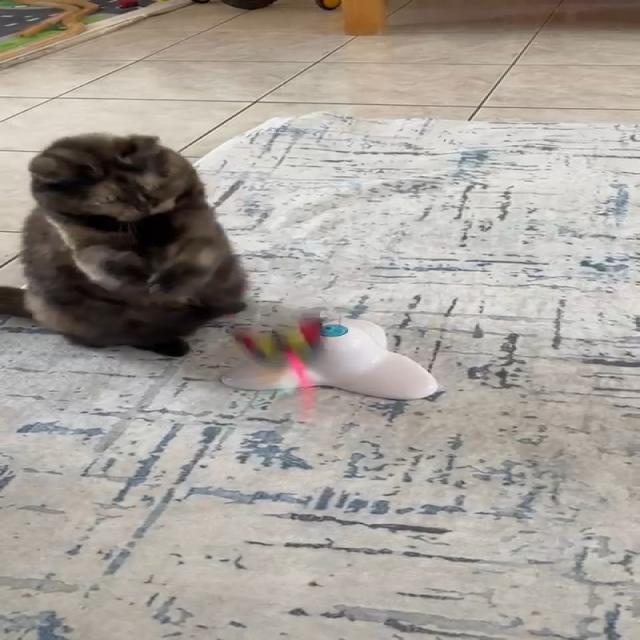authorized: (0, 131, 248, 357)
